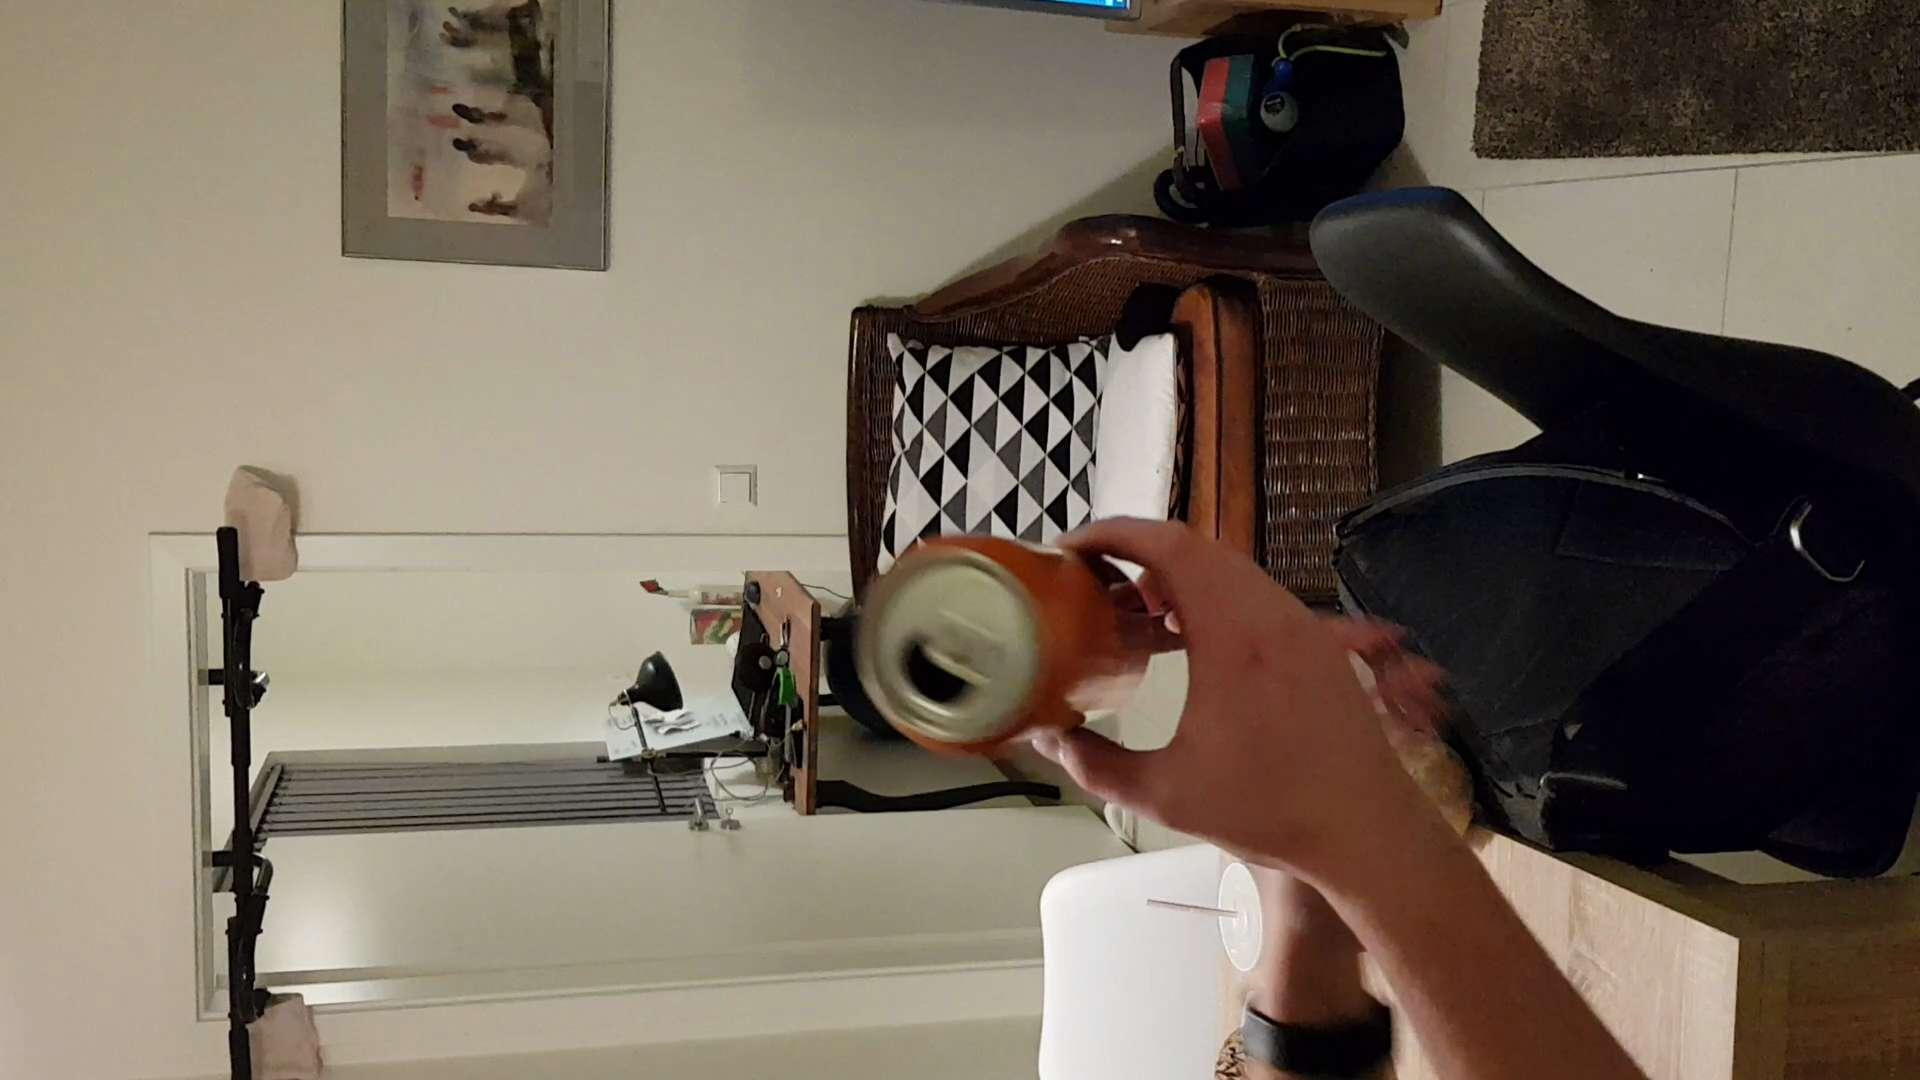Can: (833, 516, 1153, 765)
